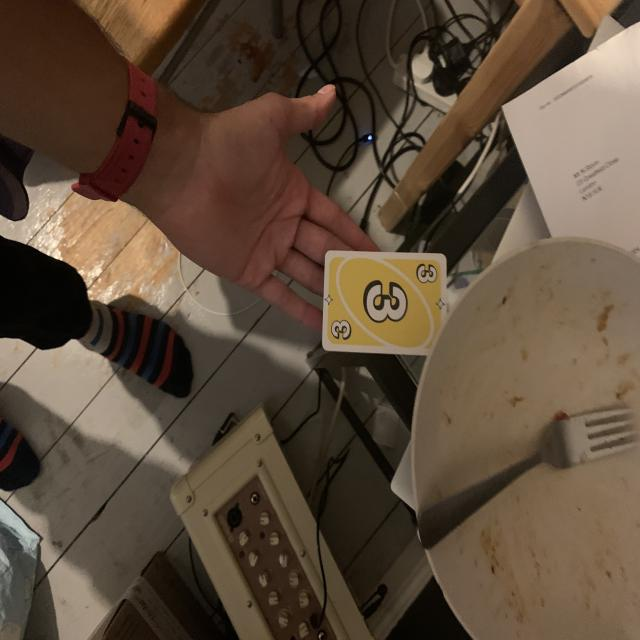lyellow-3: (411, 256, 441, 294)
